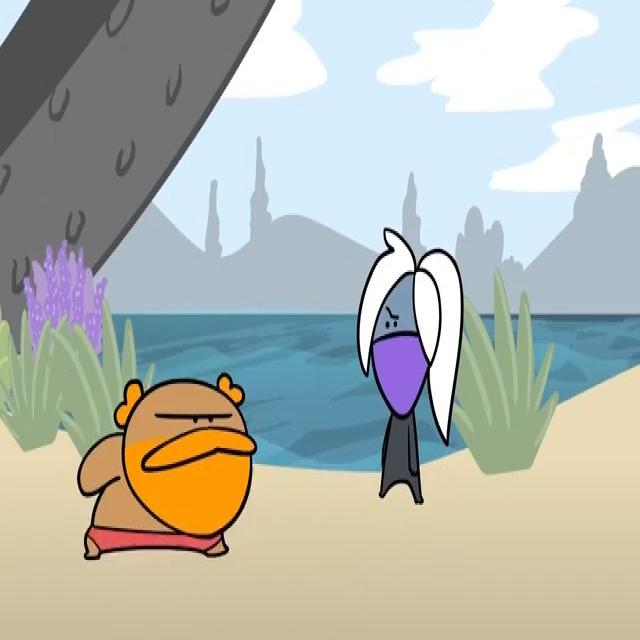Haagen-Daz: (77, 372, 258, 561)
miss Demeanor: (356, 228, 464, 505)
